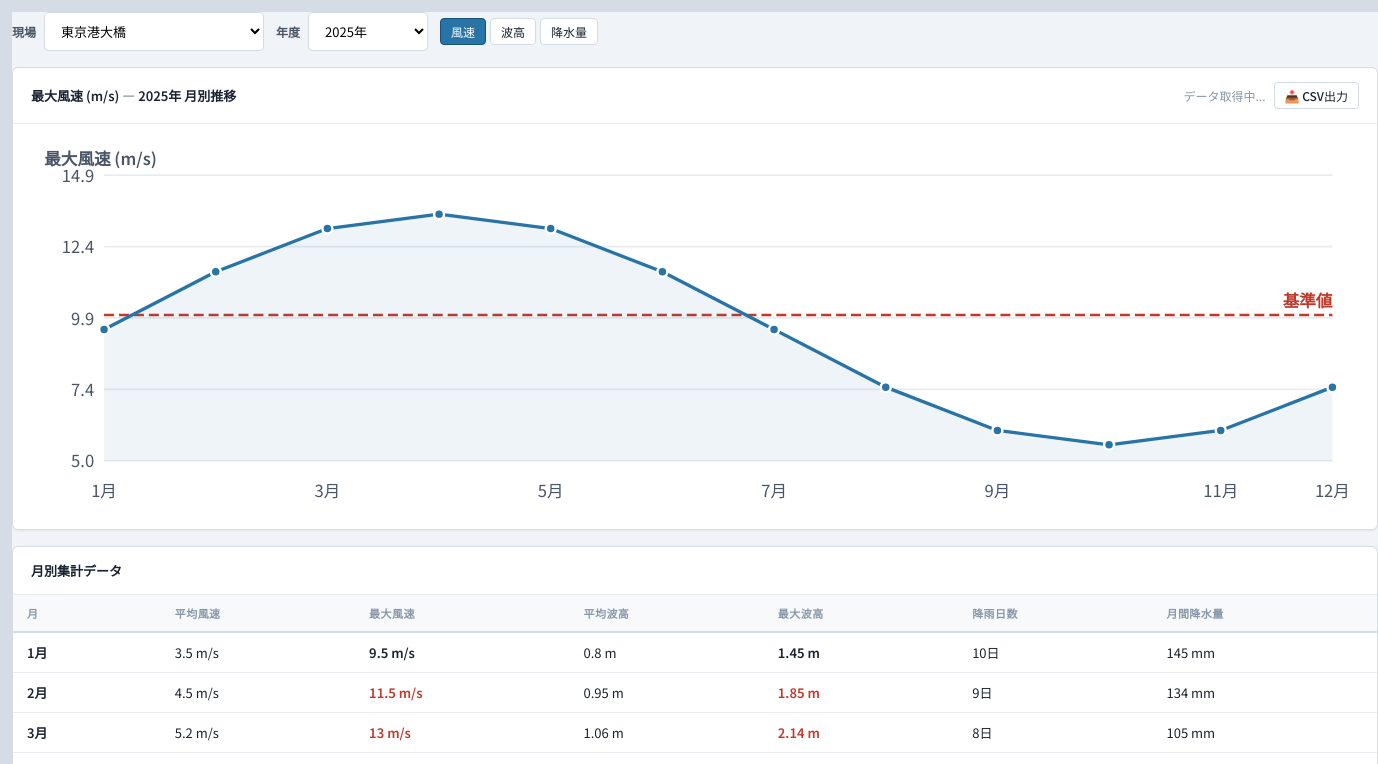
Test: HistoricalPage › changing the year updates the chart card title
Select "2023年" in the dropdown with class "form-select" next to "年度" at (368, 32), box x1=308 y1=12 x2=428 y2=51
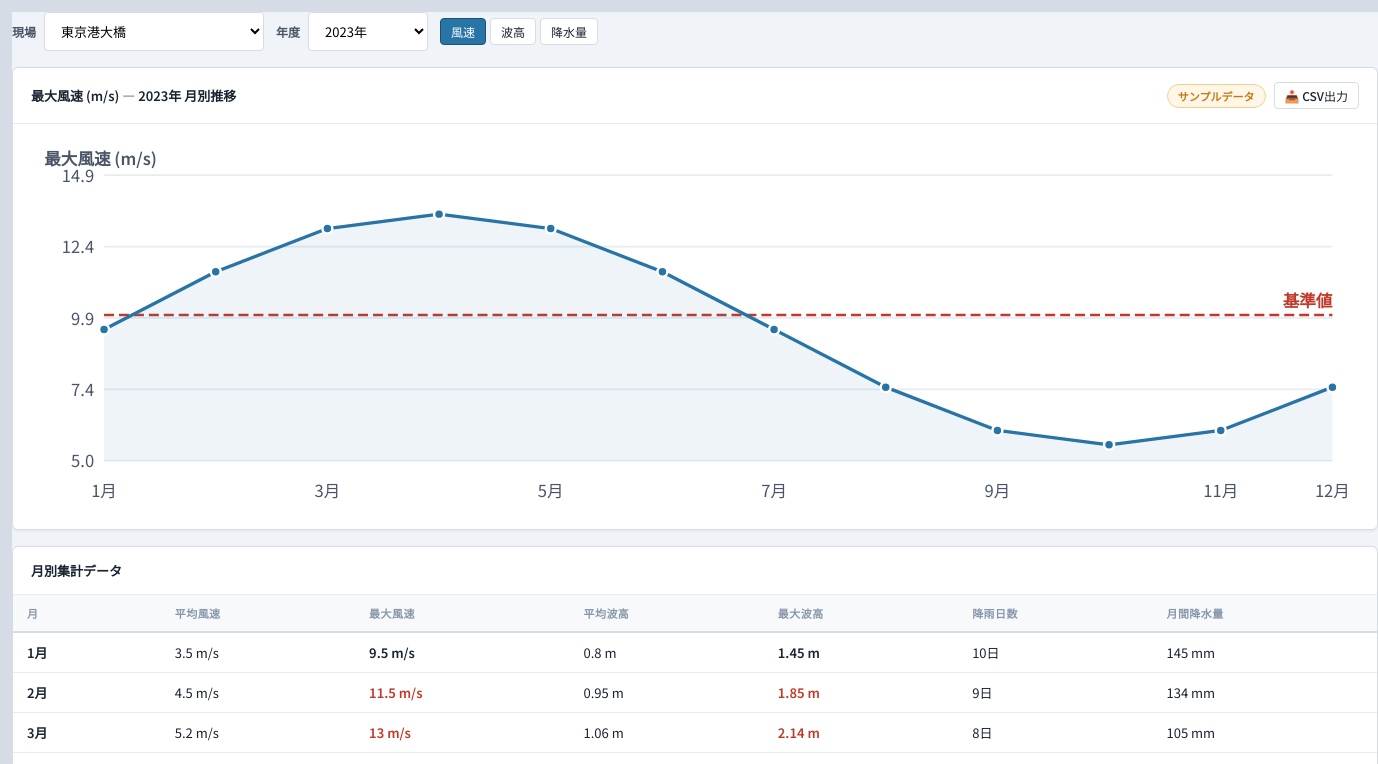
Result: the text "2023年 月別推移" is shown at x1=31 y1=86 x2=236 y2=105
